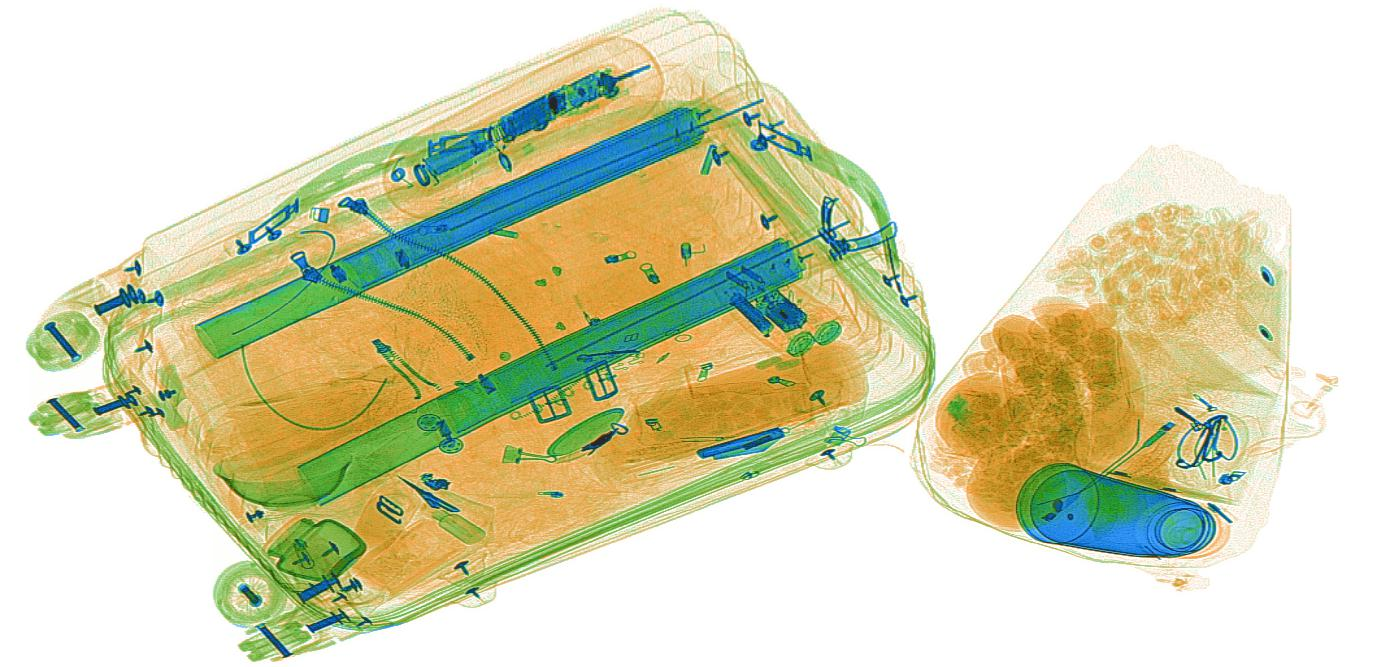battery: (424, 128, 490, 183), (730, 292, 776, 335)
knife: (694, 424, 790, 462)
scissors: (395, 472, 487, 528)
